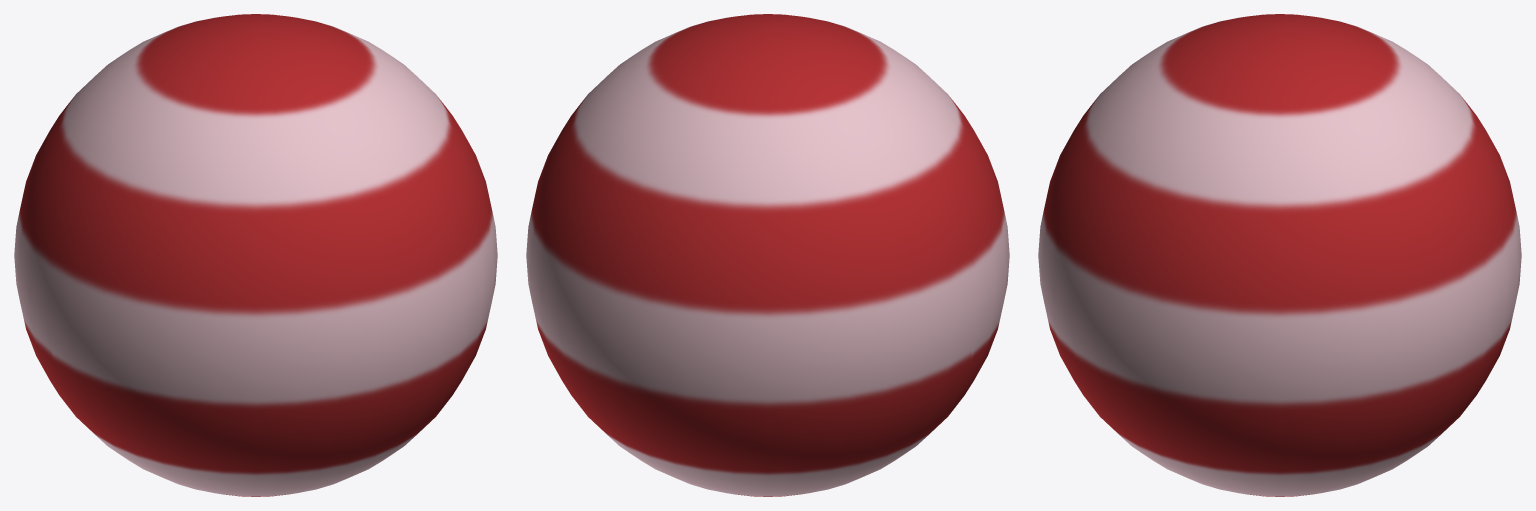
File: ball.glb
3 views of the same model, side by side, from view 1: azimuth 30°, elevation 25°; view 2: azimuth 150°, elevation 25°; view 3: azimuth 270°, elevation 25° (orthographic).
Parts seen in each view (by area): view 1: ball; view 2: ball; view 3: ball.
Part boxes in pixels (box(x1,y1,x2,y2)): ball: box(14, 14, 497, 496); ball: box(526, 14, 1009, 496); ball: box(1038, 14, 1521, 496).
Bounding box in the file's own units: 0.049 × 0.049 × 0.049.
1 material, 1 textured.
